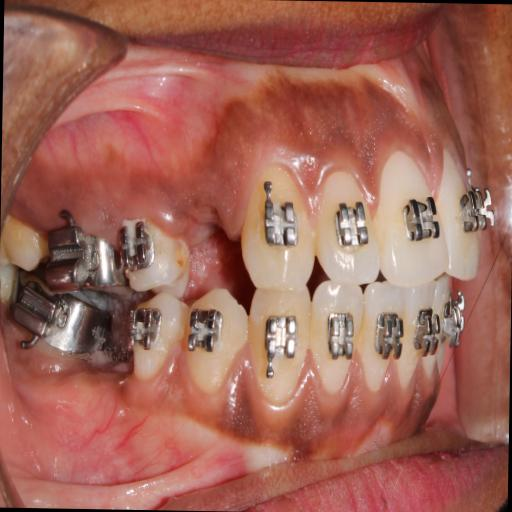correct_brace: (119, 214, 191, 302), (400, 187, 441, 250), (261, 195, 300, 256), (334, 195, 372, 255)
incorrect_brace: (316, 166, 380, 284), (117, 215, 158, 277)
